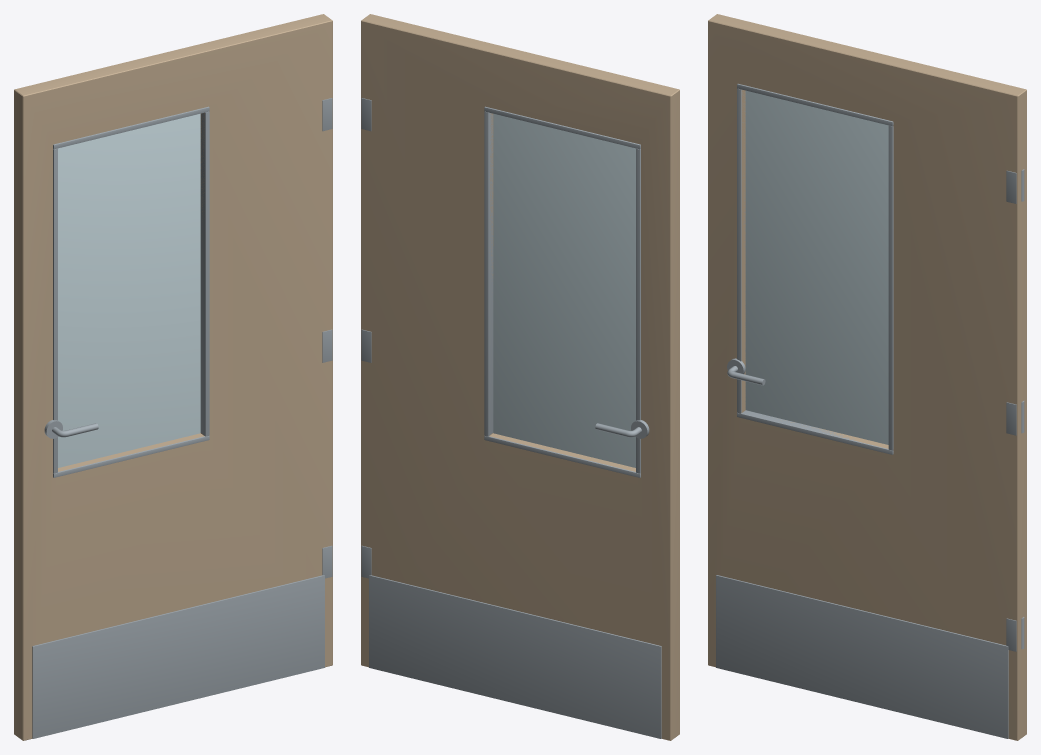
The model's file is door_leaf_bay.fbx.
3 views of the same model, side by side, from view 1: azimuth 30°, elevation 25°; view 2: azimuth 150°, elevation 25°; view 3: azimuth 330°, elevation 25° (orthographic).
Parts seen in each view (by area): view 1: EQ_door_leaf_bay_M_DoorBay, EQ_door_leaf_bay_M_DoorGlass, EQ_door_leaf_bay_M_SteelBrushed; view 2: EQ_door_leaf_bay_M_DoorBay, EQ_door_leaf_bay_M_DoorGlass, EQ_door_leaf_bay_M_SteelBrushed; view 3: EQ_door_leaf_bay_M_DoorBay, EQ_door_leaf_bay_M_DoorGlass, EQ_door_leaf_bay_M_SteelBrushed.
Boxes of the visible parts, bbox=[...] form: EQ_door_leaf_bay_M_DoorBay: bbox=[14, 14, 332, 740]; EQ_door_leaf_bay_M_DoorGlass: bbox=[58, 113, 200, 467]; EQ_door_leaf_bay_M_SteelBrushed: bbox=[32, 98, 332, 738]; EQ_door_leaf_bay_M_DoorBay: bbox=[361, 14, 679, 740]; EQ_door_leaf_bay_M_DoorGlass: bbox=[493, 113, 635, 467]; EQ_door_leaf_bay_M_SteelBrushed: bbox=[361, 98, 661, 738]; EQ_door_leaf_bay_M_DoorBay: bbox=[708, 14, 1026, 740]; EQ_door_leaf_bay_M_DoorGlass: bbox=[745, 90, 888, 444]; EQ_door_leaf_bay_M_SteelBrushed: bbox=[716, 83, 1024, 738].
Bounding box in the file's own units: 1.06 × 2.09 × 0.178.
